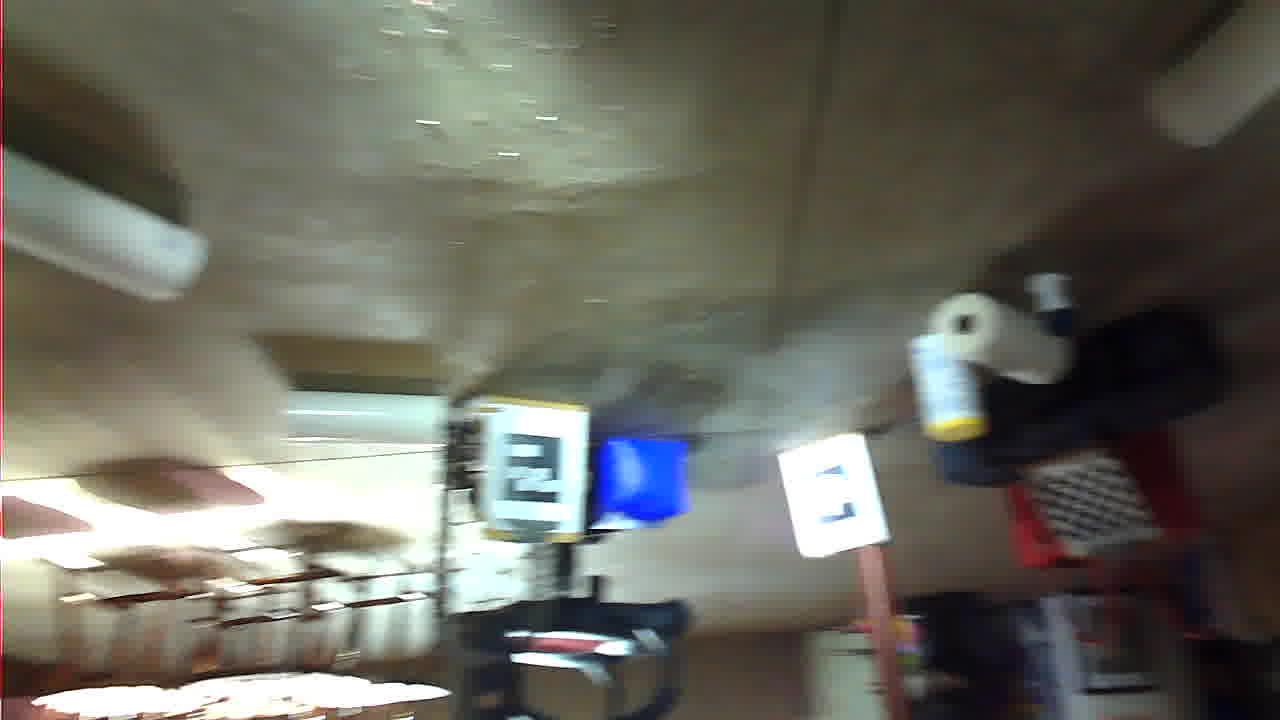coral: (1077, 416, 1280, 574), (0, 576, 137, 720), (830, 272, 993, 328)
